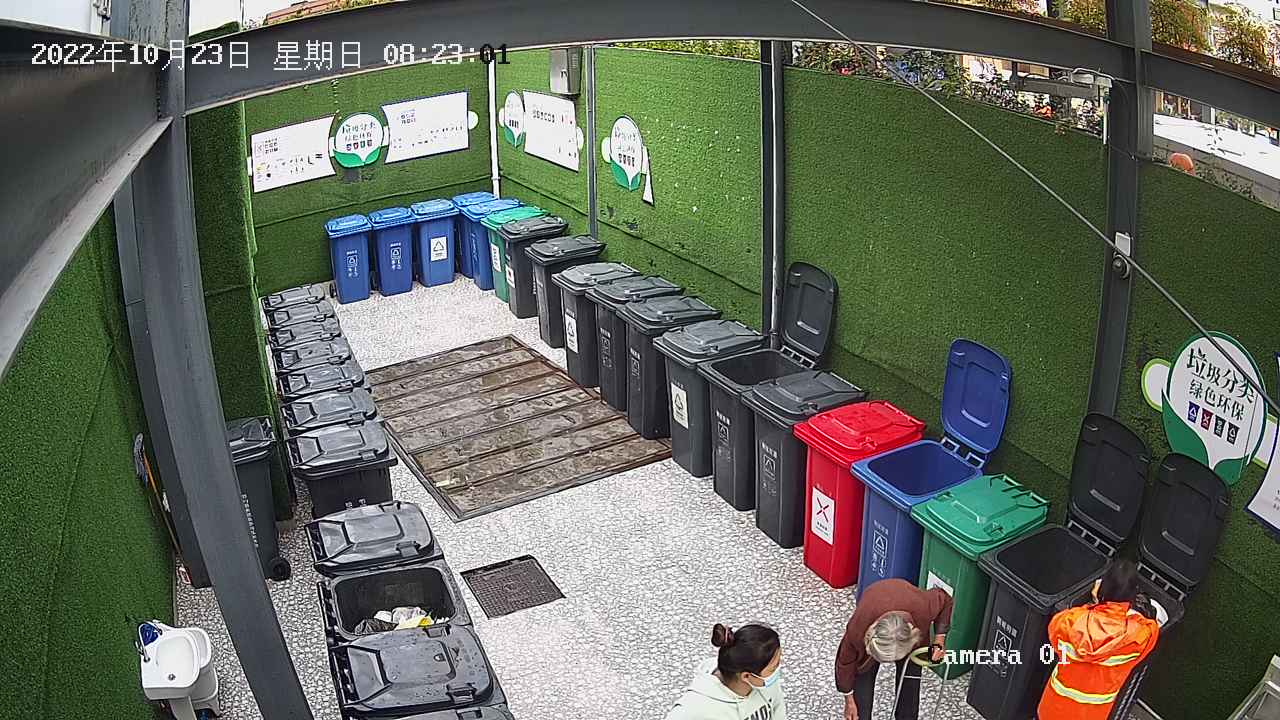person: (828, 575, 959, 720), (662, 617, 794, 720)
worker: (1031, 556, 1166, 720)
